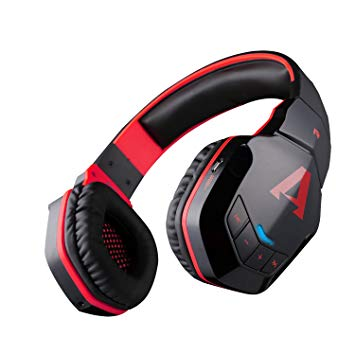headphone: (44, 47, 335, 318)
